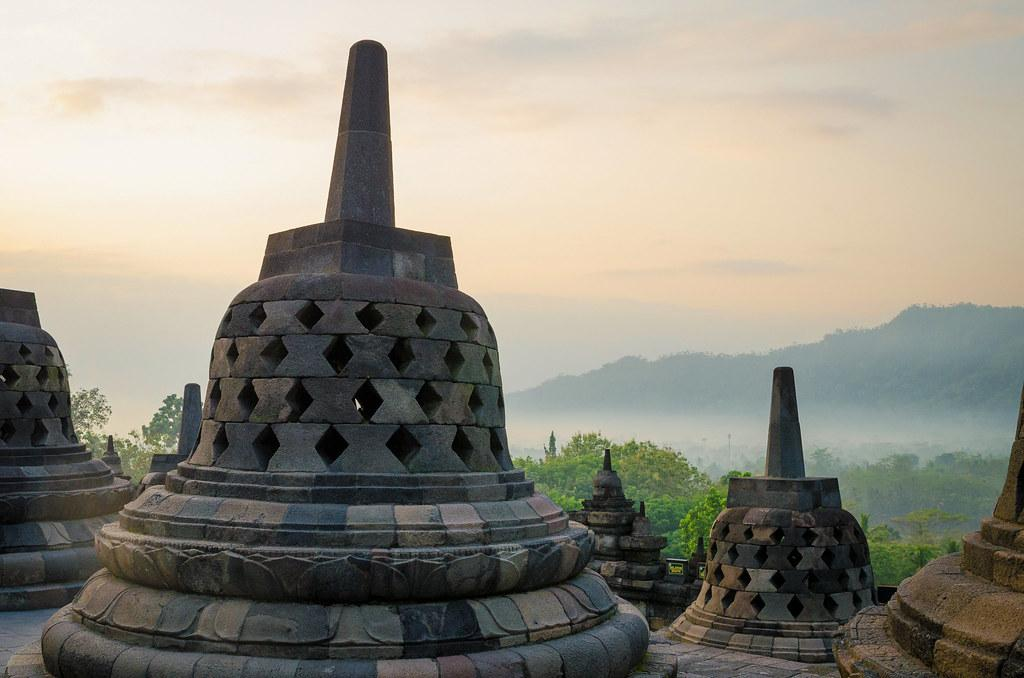temple: (35, 38, 654, 676), (666, 365, 878, 664), (831, 382, 1023, 677), (1, 287, 138, 612), (566, 446, 671, 626)
